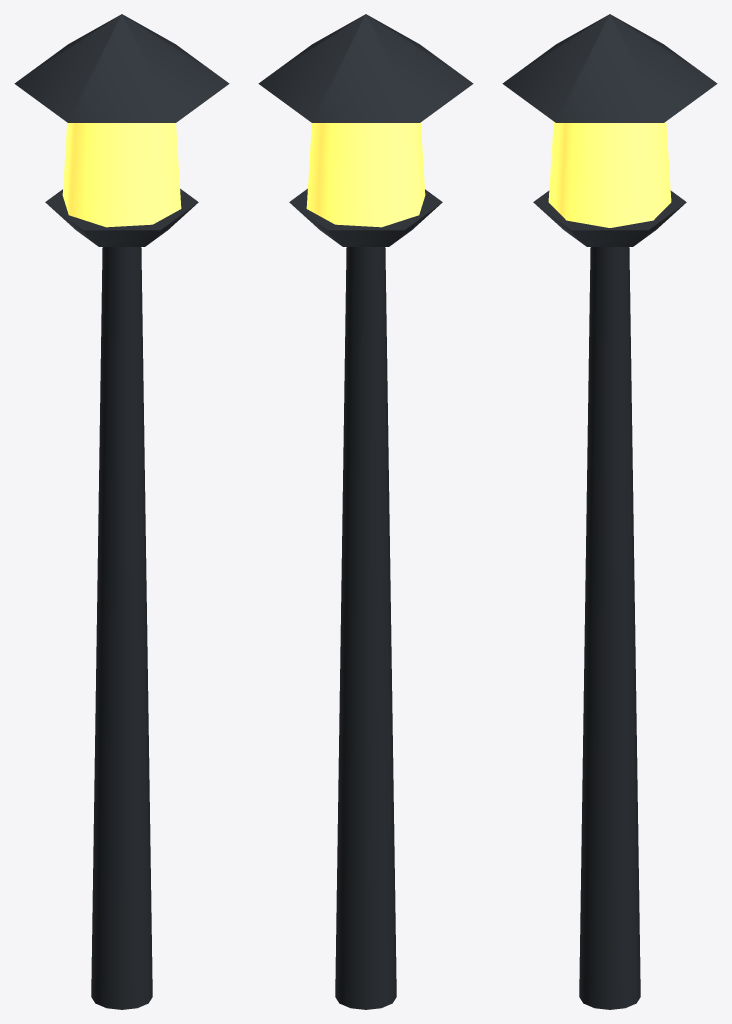
File: lantern-lamp.glb
3 views of the same model, side by side, from view 1: azimuth 30°, elevation 25°; view 2: azimuth 150°, elevation 25°; view 3: azimuth 270°, elevation 25° (orthographic).
Bounding box in the file's own units: 0.485 × 2.82 × 0.56.
